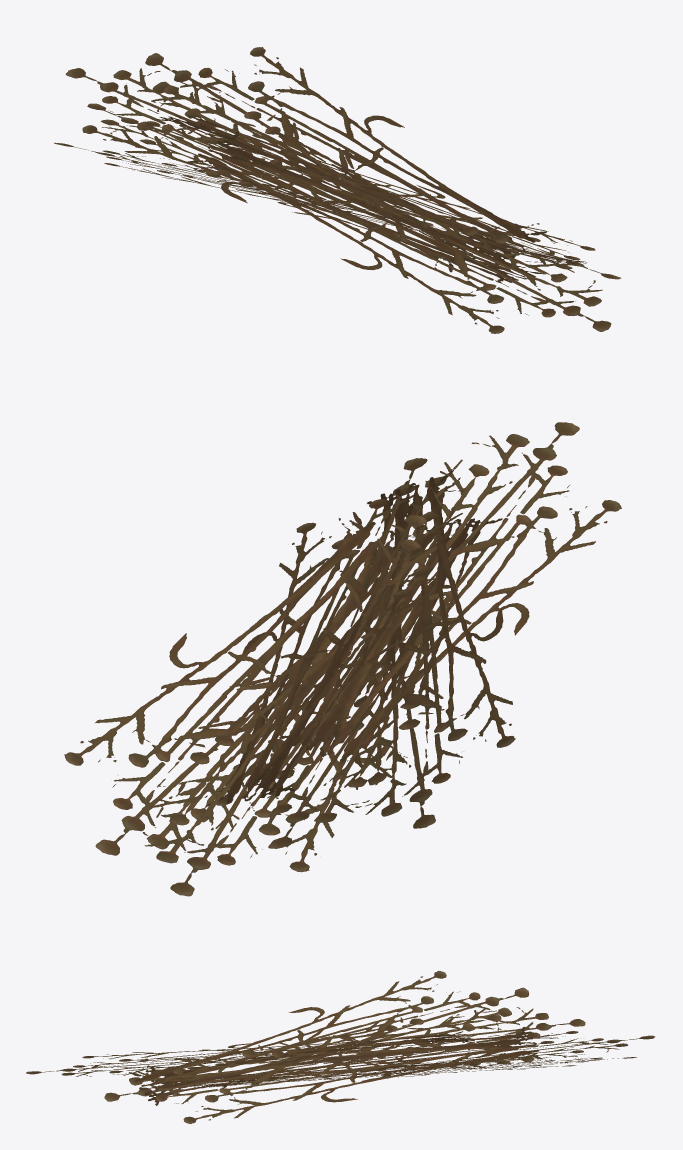
The model's file is gardenbed_flax.FBX.
3 views of the same model, one above another, from view 1: azimuth 30°, elevation 25°; view 2: azimuth 150°, elevation 25°; view 3: azimuth 270°, elevation 25° (orthographic). The views are drawn at different scales.
Visible parts, largest first — view 1: gardenbed_flax; view 2: gardenbed_flax; view 3: gardenbed_flax.
Boxes of the visible parts, box(x1,y1,x2,y2) form: gardenbed_flax: box(54, 47, 621, 333); gardenbed_flax: box(64, 422, 621, 896); gardenbed_flax: box(26, 970, 655, 1123).
Bounding box in the file's own units: 0.801 × 0.1083 × 1.5.
1 material, 1 textured.
